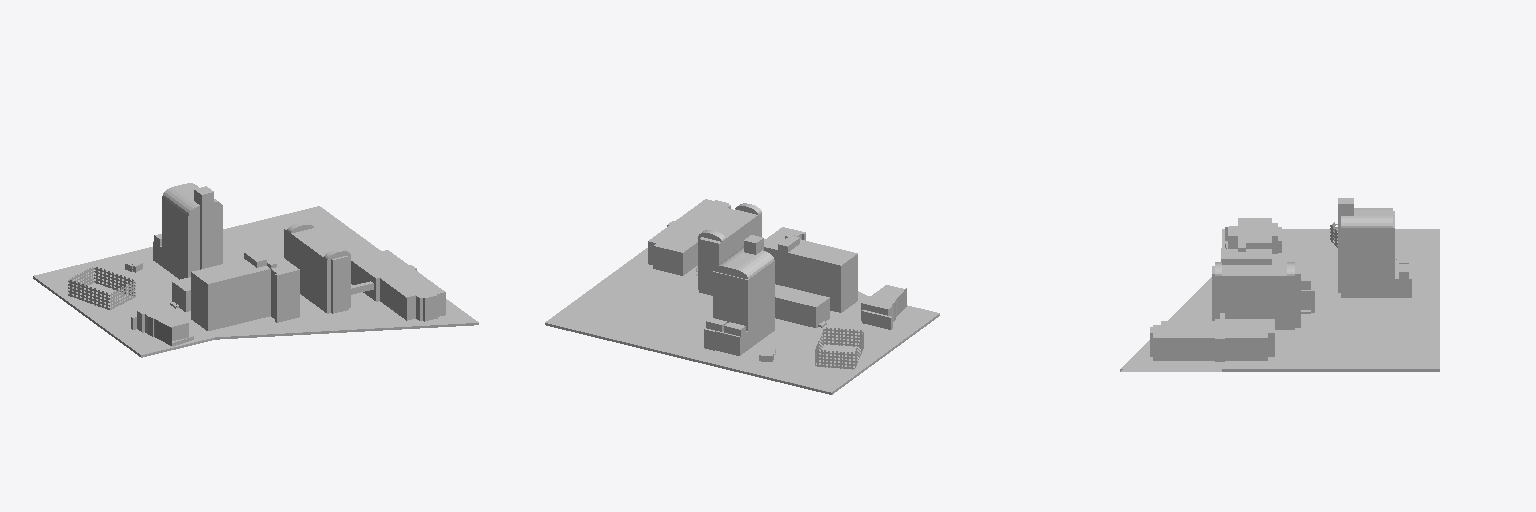
File: free_map8.obj
3 renders of one model, left to right at view 1: azimuth 30°, elevation 25°; view 2: azimuth 150°, elevation 25°; view 3: azimuth 270°, elevation 25°, orthographic.
Parts seen in each view (by area): view 1: Cube.009, Cube.004, Cube.006, Cube.001, Cube.002, Cube.005, Cube.008, Cube.003; view 2: Cube.009, Cube.006, Cube.004, Cube.001, Cube.002, Cube.003, Cube.005, Cube.008; view 3: Cube.009, Cube.006, Cube.001, Cube.002, Cube.004, Cube.003, Cube.005.
Part boxes in pixels (x1,y1,x2,y2): Cube.009: (33, 206, 478, 357); Cube.004: (191, 251, 299, 330); Cube.006: (153, 183, 222, 279); Cube.001: (351, 249, 445, 321); Cube.002: (284, 222, 350, 313); Cube.005: (131, 304, 193, 346); Cube.008: (68, 267, 135, 309); Cube.003: (170, 252, 266, 311); Cube.009: (545, 239, 939, 394); Cube.006: (704, 235, 774, 355); Cube.004: (764, 227, 857, 312); Cube.001: (648, 199, 733, 275); Cube.002: (698, 203, 761, 295); Cube.003: (775, 284, 829, 327); Cube.005: (861, 285, 906, 329); Cube.008: (815, 327, 863, 369); Cube.009: (1120, 229, 1439, 371); Cube.006: (1338, 198, 1411, 297); Cube.001: (1150, 313, 1274, 361); Cube.002: (1212, 262, 1300, 329); Cube.004: (1221, 218, 1271, 264); Cube.003: (1288, 246, 1314, 313); Cube.005: (1225, 223, 1281, 253).
Size of the model in its own units: 246 by 75.13 by 237.